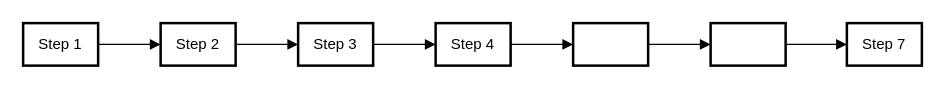
This 944x88 diagram has some shape labels left out. The box of each missing label's shape, as (x1, y1, x2, y2) in pixels:
Step 5: (571, 21, 649, 66)
Step 6: (709, 21, 786, 66)
